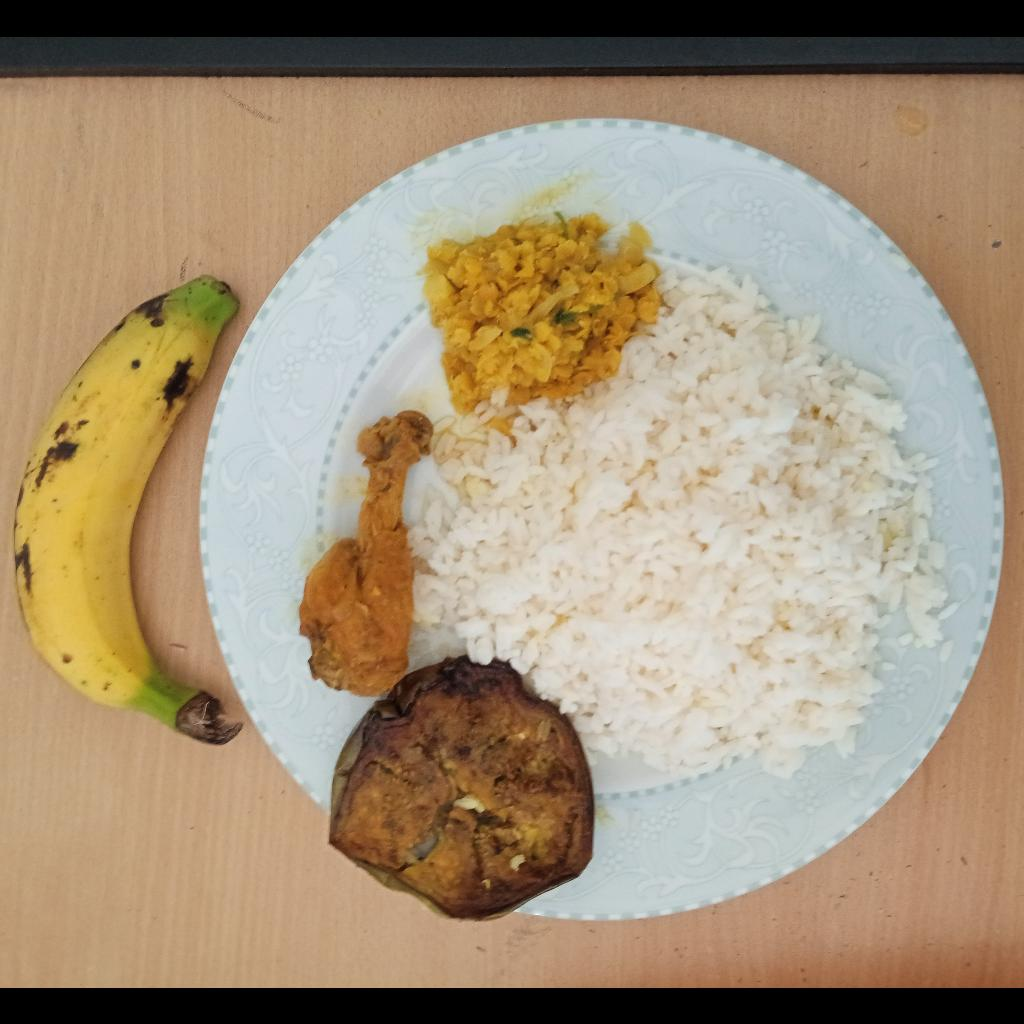banana: (14, 271, 245, 745)
begun-vaji: (329, 658, 592, 924)
chicken: (300, 407, 435, 697)
daal: (422, 210, 663, 407)
rice: (412, 263, 944, 779)
